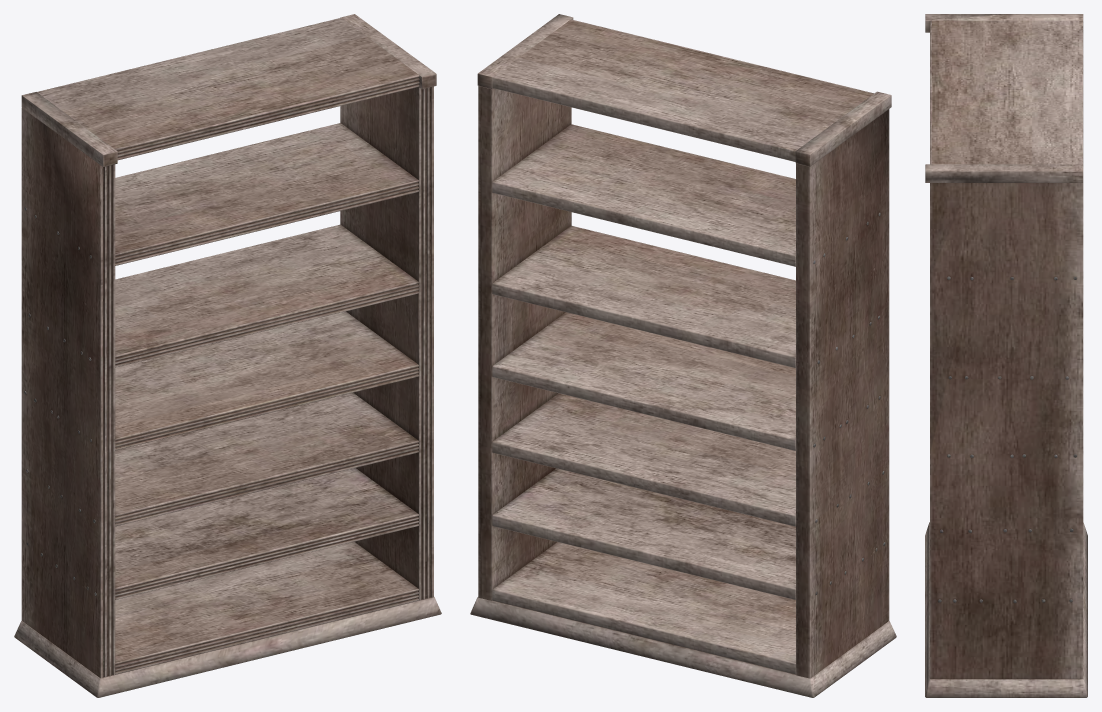
File: fe2a1dcf-17d2-4718-8829-faad9723d4b3.glb
The picture shows the model from 3 angles, left to right: view 1: azimuth 30°, elevation 25°; view 2: azimuth 150°, elevation 25°; view 3: azimuth 270°, elevation 25°; orthographic projection. The views are drawn at different scales.
Visible parts, largest first — view 1: wooden_bookshelf_worn; view 2: wooden_bookshelf_worn; view 3: wooden_bookshelf_worn.
Boxes of the visible parts, x1,y1,x2,y2 form: wooden_bookshelf_worn: (14, 14, 441, 697); wooden_bookshelf_worn: (470, 14, 896, 697); wooden_bookshelf_worn: (925, 14, 1087, 697).
Bounding box in the file's own units: 1.37 × 2.06 × 0.5813.
Materials: 1 (1 with a texture image).
